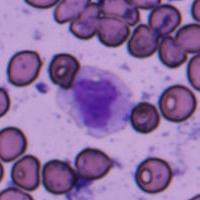M: (55, 64, 134, 138)
